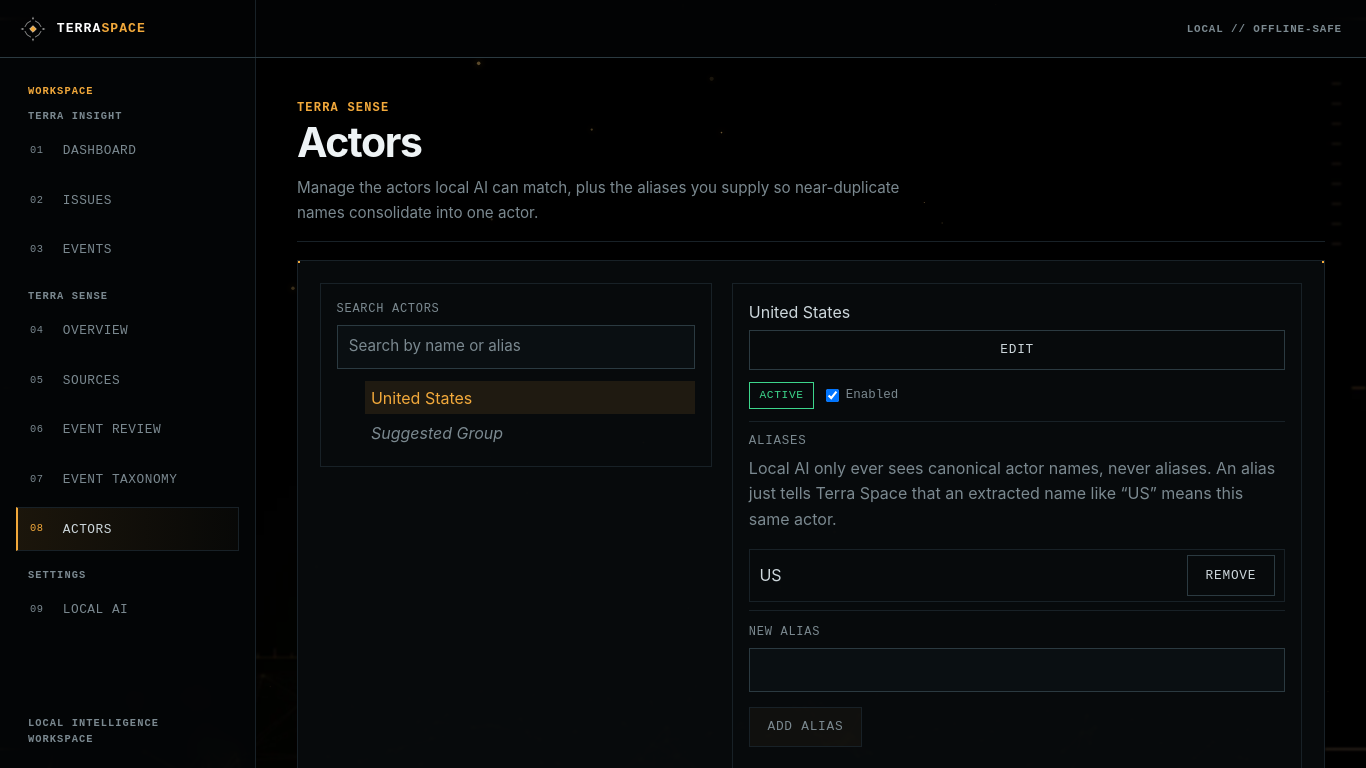
ActorsWorkspace › searches by name or alias
Expected: the heading "United States" is shown, top-left (749, 302), bottom-right (850, 322)
In the field labelled "Search actors": (516, 347) top-left (337, 325), bottom-right (695, 369), type "US"
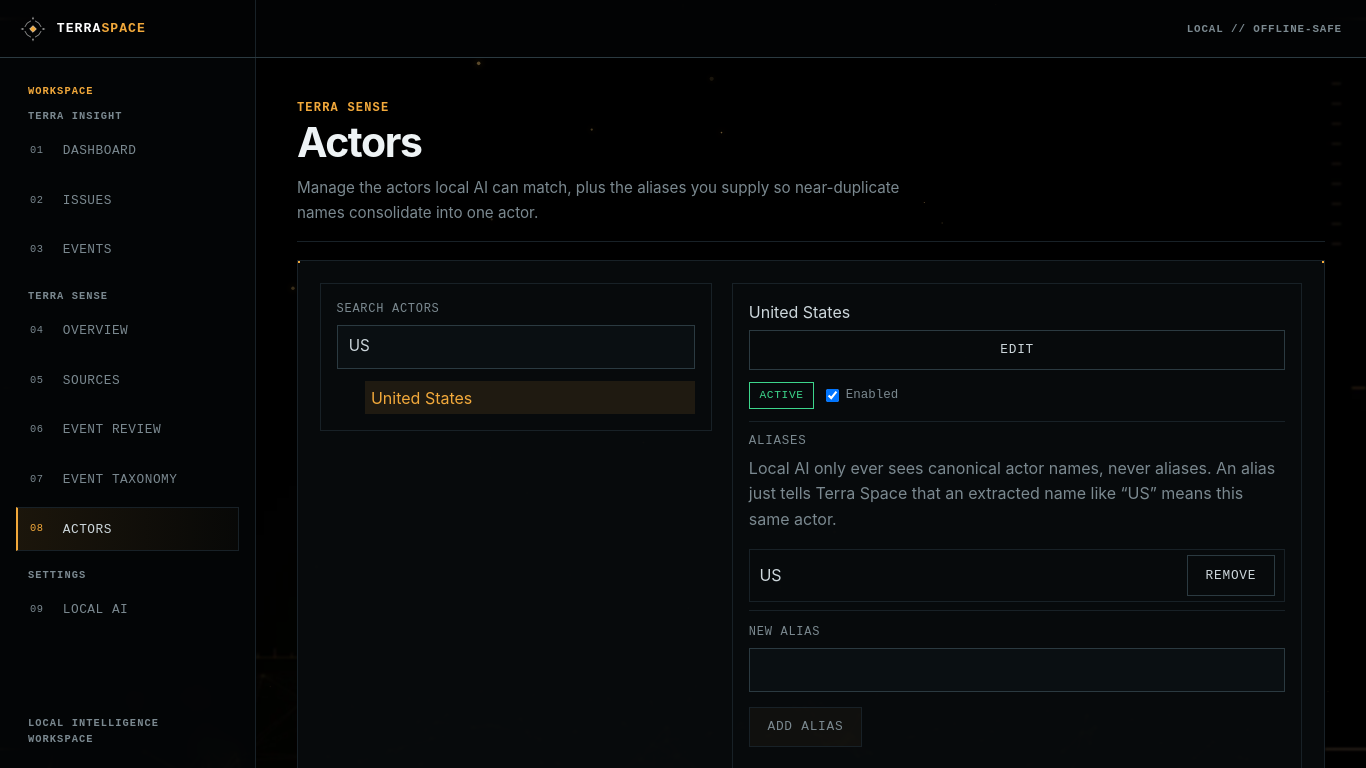
Expected: the button "United States" is shown, top-left (364, 381), bottom-right (695, 414)
Now the button "Suggested Group" is gone
